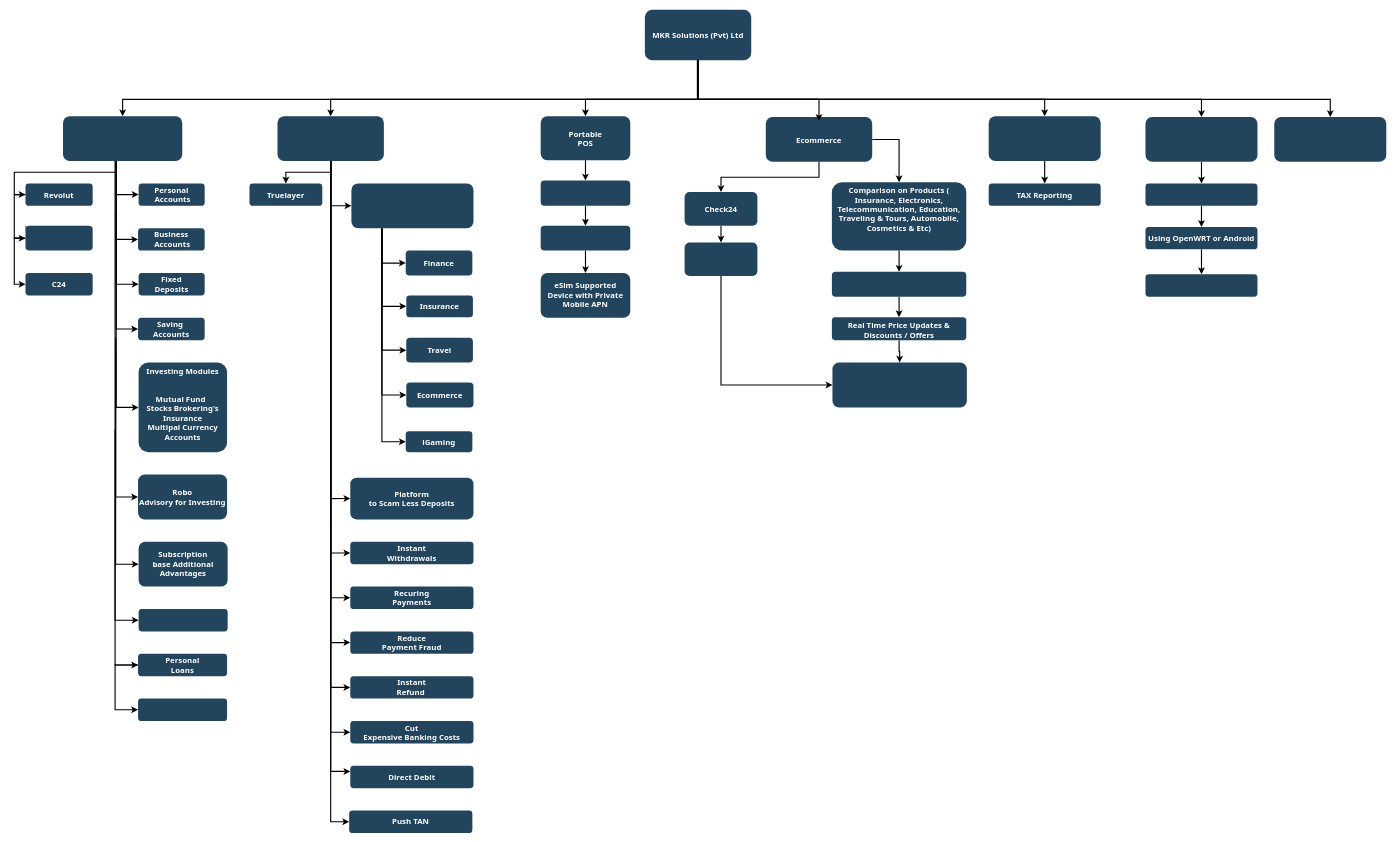
The diagram is 1396 pixels wide and 842 high, and some of its shapes have lost their labels. Each missing label, with the centre of its shape:
"5G eSim Connectivity" belongs at point (1201, 194).
"Accounting, Invoicing, Stock, Inventory, TAX (Optional)" belongs at point (1044, 138).
"Built own Hardware Box" belongs at point (1201, 285).
"Check Product Availability on Market" belongs at point (899, 283).
"Cloud Hosted" belongs at point (585, 193).
"Commodity Trading" belongs at point (182, 620).
"Cross Connecting Fintech Platforms" belongs at point (412, 205).
"ERP with Paid Addons" belongs at point (585, 237).
"Escrow Service" belongs at point (1330, 139).
"FinTech Bank or Finance" belongs at point (122, 138).
"Foreign Remittence" belongs at point (182, 709).
"Idealo.de" belongs at point (720, 259).
"IpTV" belongs at point (1201, 139).
"N26" belongs at point (58, 237).
"Open Banking Platform" belongs at point (330, 138).
"Providing Installment Base Payments through (Credit Cards or Koko )" belongs at point (899, 384).
